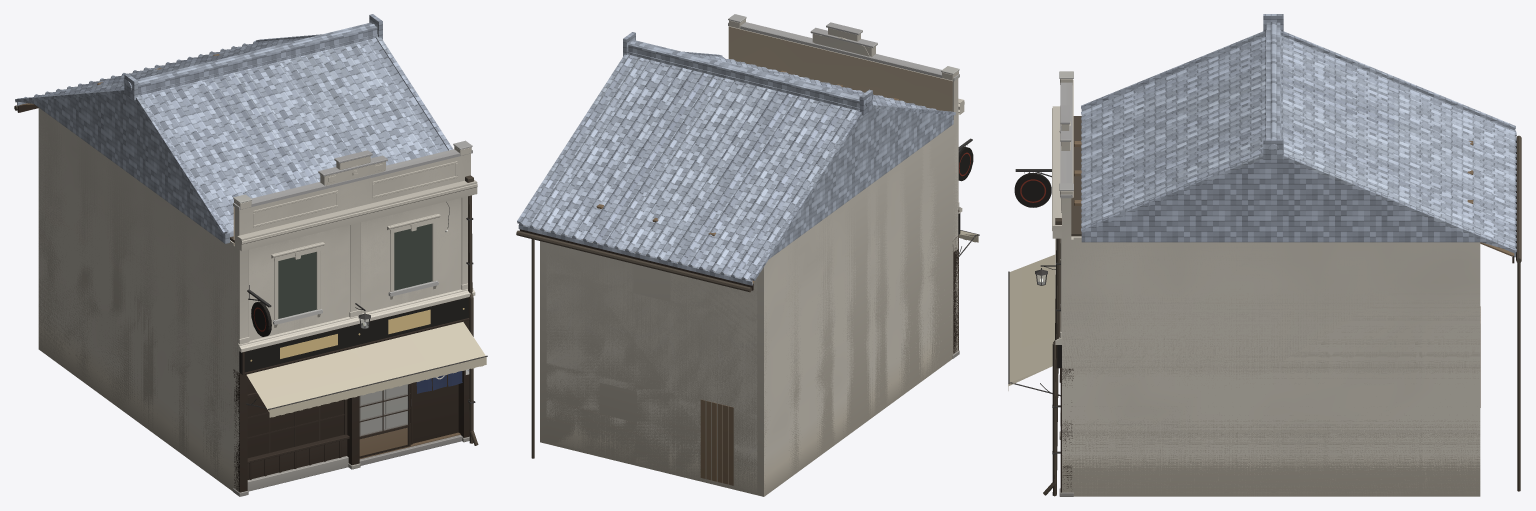
The model's file is building-a.glb.
3 renders of one model, left to right at view 1: azimuth 30°, elevation 25°; view 2: azimuth 150°, elevation 25°; view 3: azimuth 270°, elevation 25°, orthographic. The views are drawn at different scales.
Parts seen in each view (by area): view 1: BldgA_LOD0_Exterior, BldgA_LOD1_Exterior, BldgA_LOD2_Exterior; view 2: BldgA_LOD0_Exterior, BldgA_LOD1_Exterior, BldgA_LOD2_Exterior; view 3: BldgA_LOD0_Exterior, BldgA_LOD1_Exterior, BldgA_LOD2_Exterior.
Boxes of the visible parts, box(x1,y1,x2,y2) form: BldgA_LOD0_Exterior: box(14, 15, 487, 496); BldgA_LOD1_Exterior: box(34, 14, 486, 492); BldgA_LOD2_Exterior: box(21, 39, 477, 457); BldgA_LOD0_Exterior: box(516, 14, 979, 496); BldgA_LOD1_Exterior: box(522, 22, 978, 496); BldgA_LOD2_Exterior: box(525, 56, 974, 496); BldgA_LOD0_Exterior: box(1008, 14, 1521, 496); BldgA_LOD1_Exterior: box(1008, 14, 1514, 496); BldgA_LOD2_Exterior: box(1008, 35, 1515, 385).
Size of what is drawn, in the model's own units: 6.48 by 8.56 by 11.05.
Materials: 45 (1 with a texture image).
